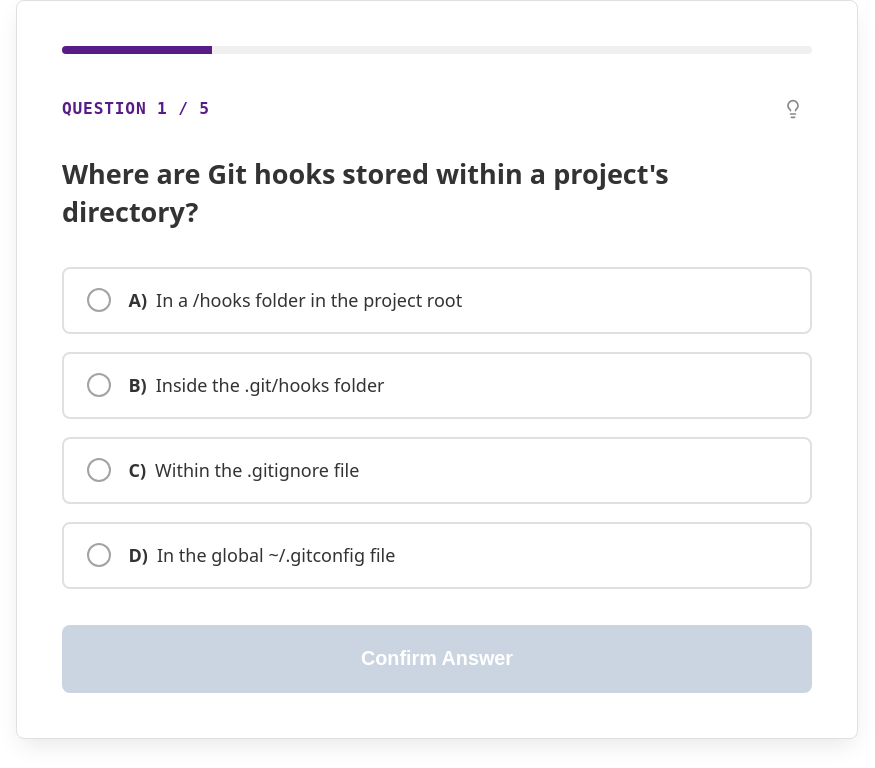
Test: QuizPage › allows the user to select an option, confirm, and see the rationale
Expected: the button "Confirm Answer" is disabled, 62,625 -> 812,693
Click the button "B)Inside the .git/hooks folder".
click(270, 385)  # box 62,352 -> 812,419
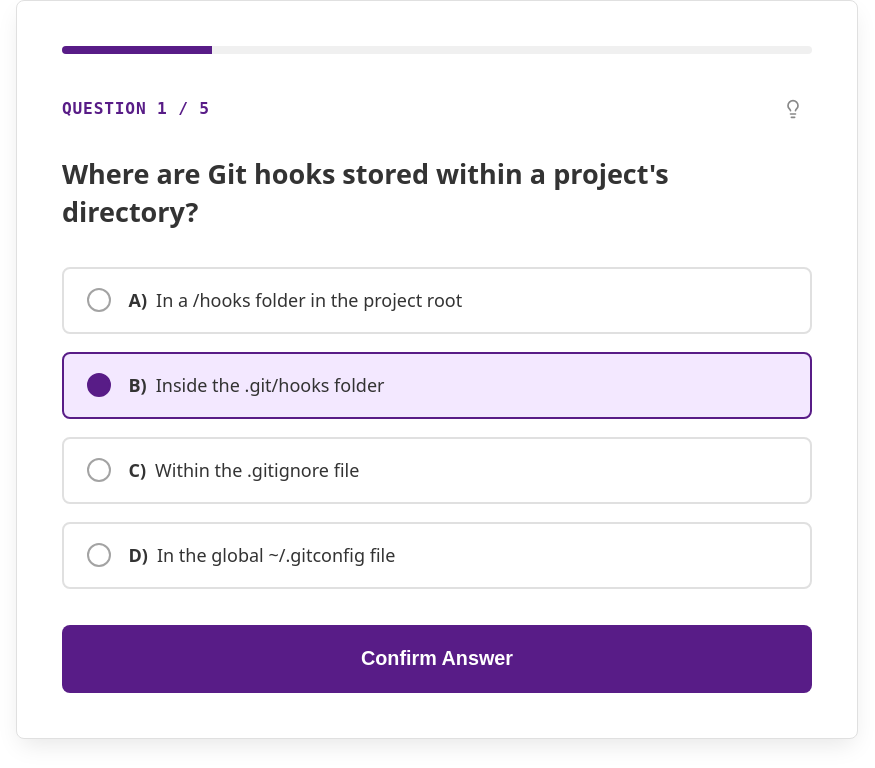
Expected: the button "Confirm Answer" is enabled
Click the button "Confirm Answer".
click(437, 659)  # box 62,625 -> 812,693
(page scrolled)
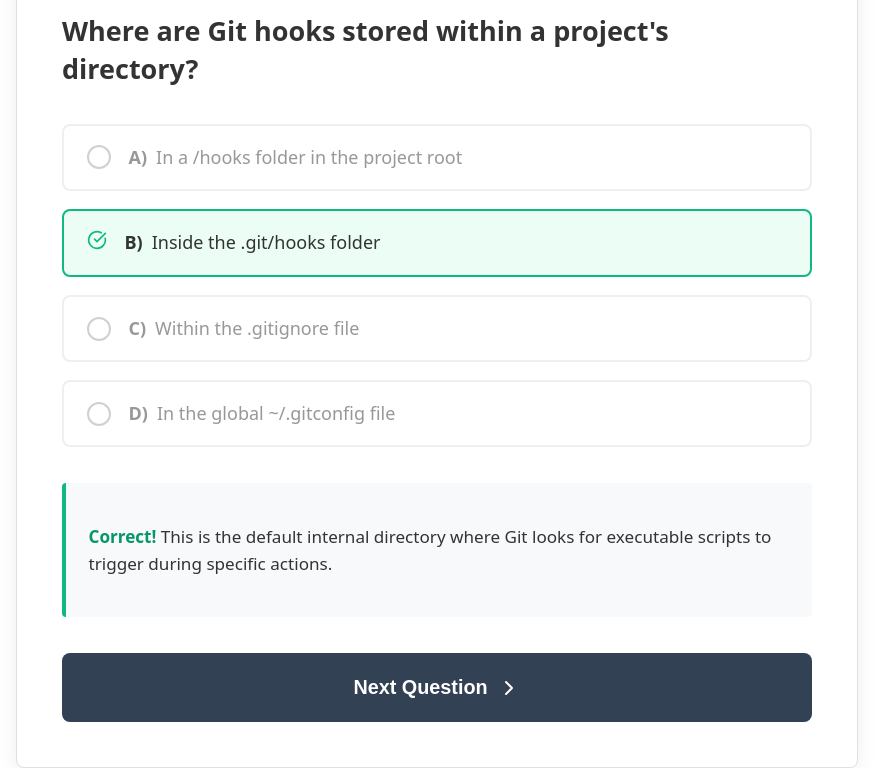
Expected: the text "Correct!" is shown, 88,525 -> 161,548
Expected: the button "Next Question" is shown, 62,653 -> 812,722
